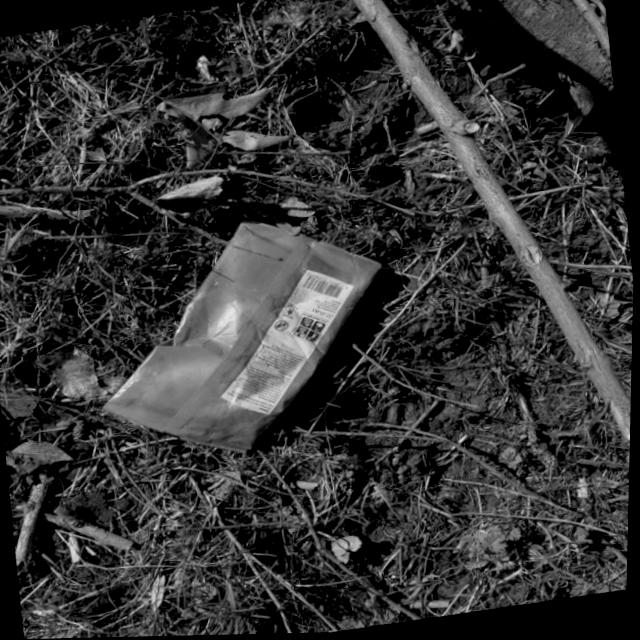Plastic: (76, 198, 406, 476)
